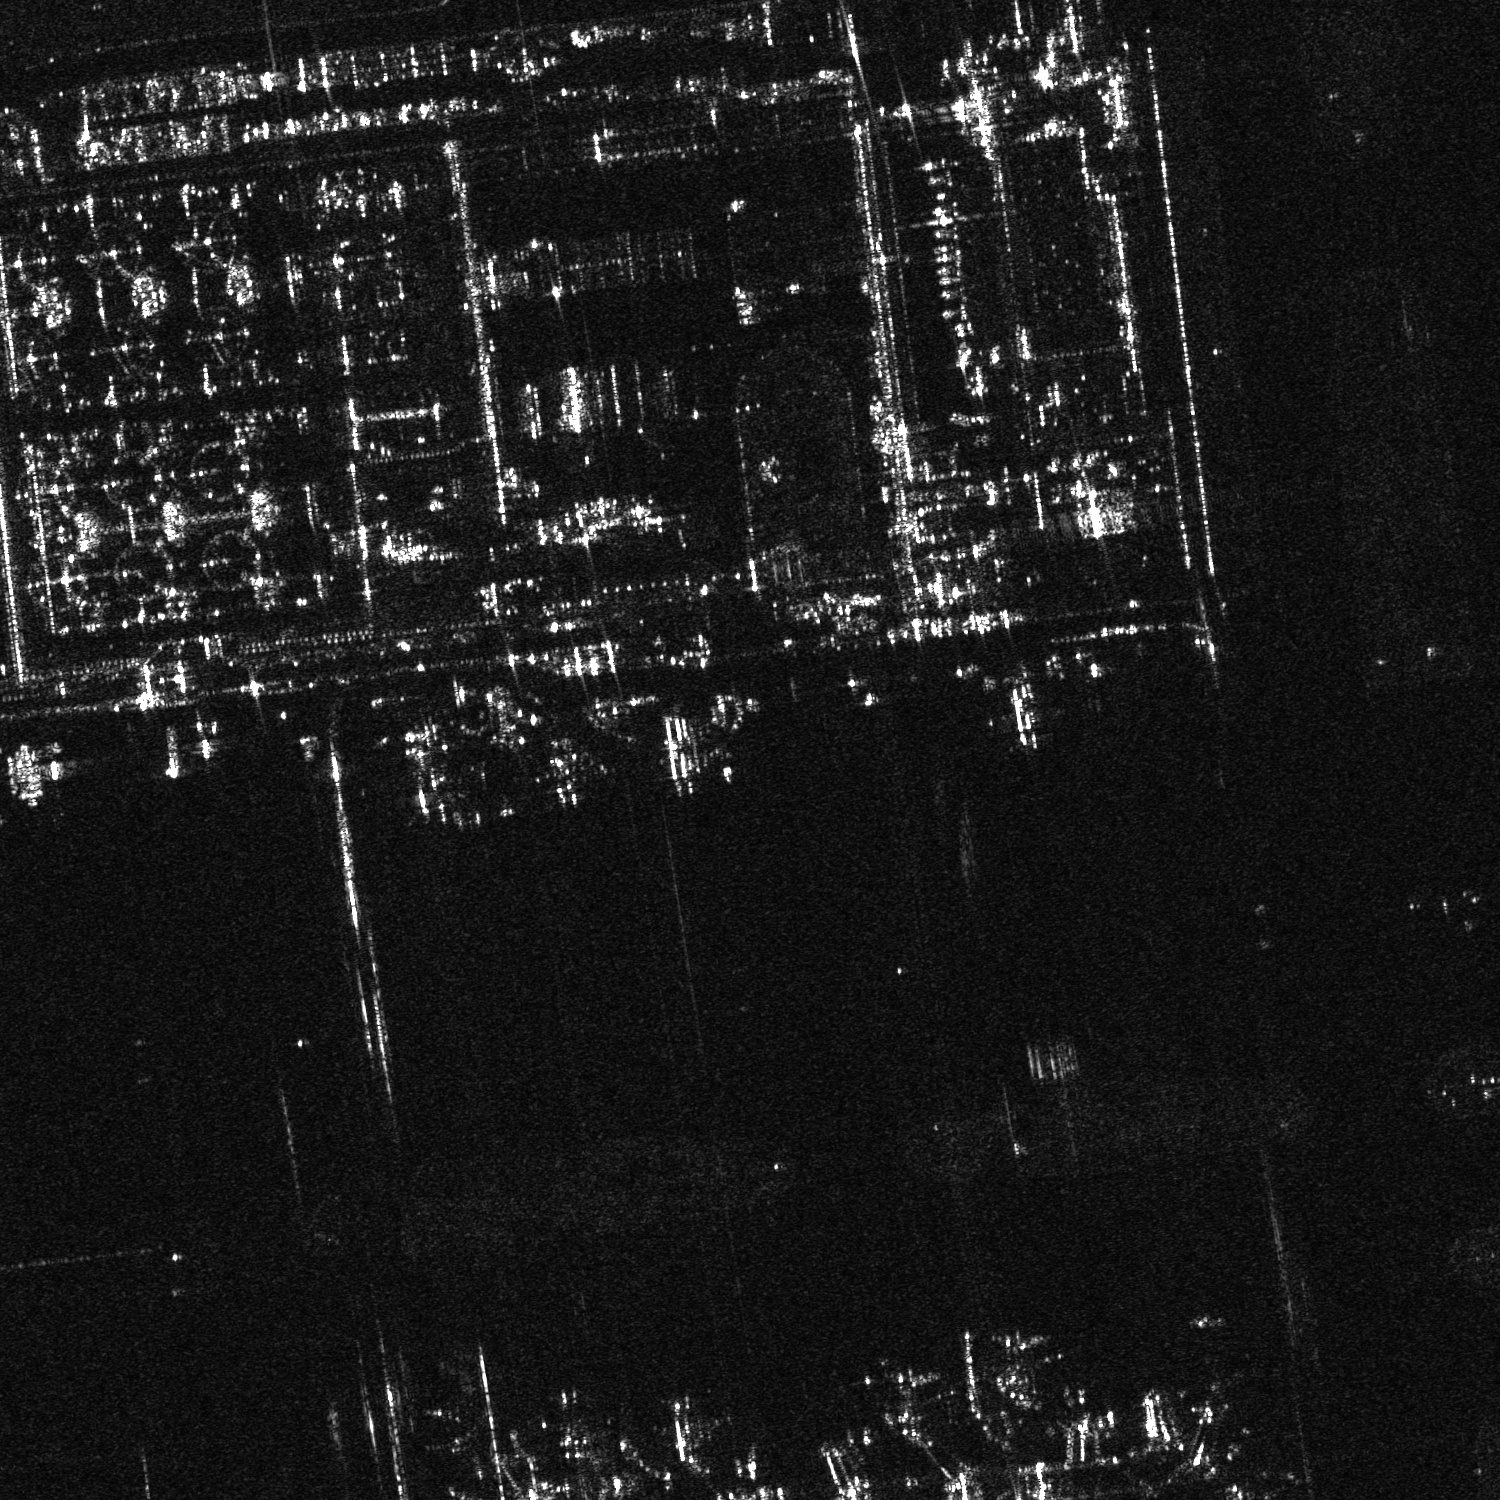A220: (644, 1391, 725, 1466), (543, 1385, 613, 1457), (865, 1352, 945, 1413), (984, 1313, 1049, 1365)
Boeing737: (988, 676, 1065, 751), (423, 1404, 489, 1457)
Boeing787: (532, 732, 604, 808), (459, 683, 536, 754)
